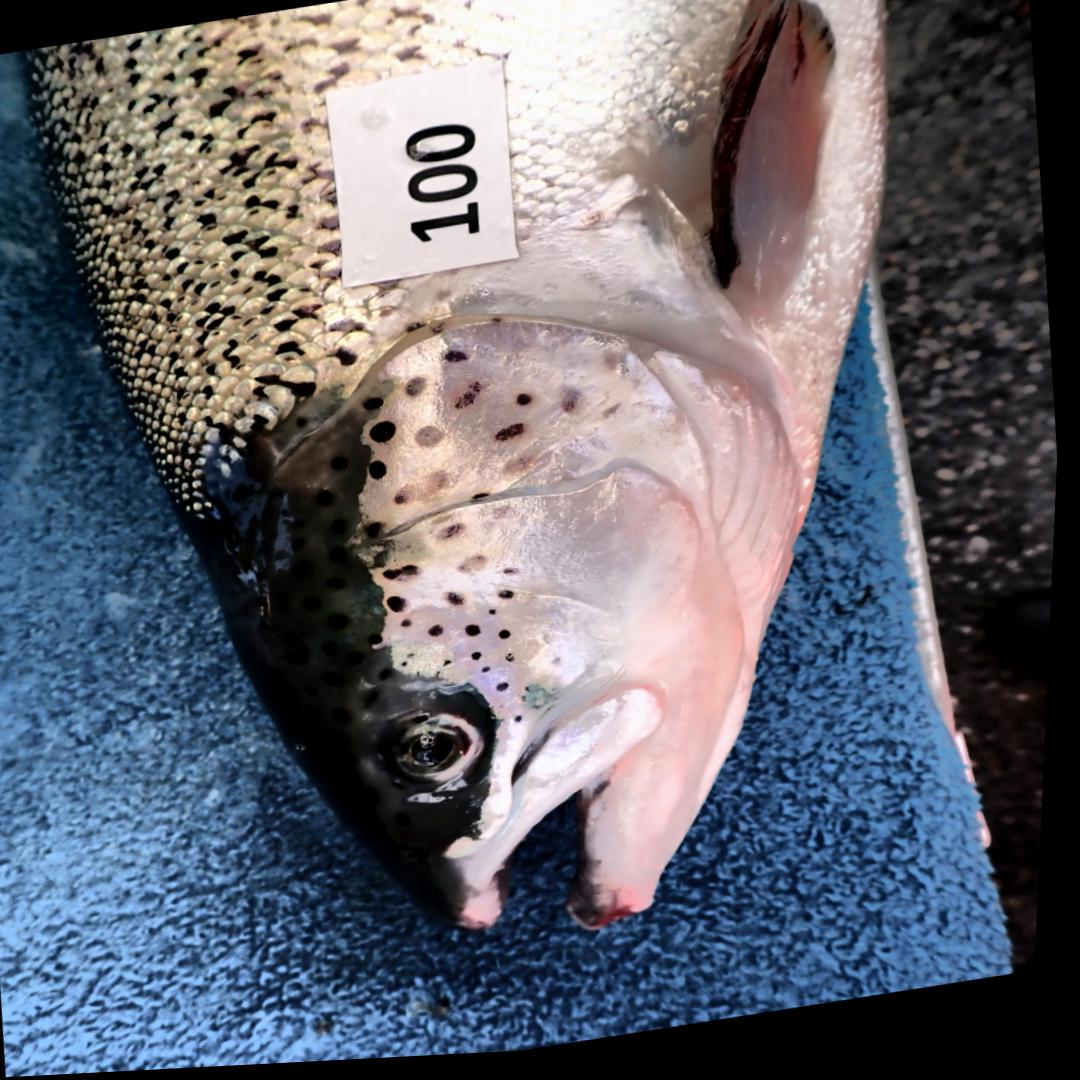spot: (399, 473, 453, 515), (458, 384, 492, 414), (506, 461, 537, 483), (418, 430, 447, 452), (375, 424, 401, 447), (388, 569, 425, 585), (498, 428, 529, 446), (464, 559, 493, 577), (564, 393, 584, 419), (439, 528, 470, 544), (444, 353, 472, 368), (372, 463, 392, 483), (409, 381, 429, 400), (392, 599, 413, 616), (504, 570, 527, 585), (367, 400, 387, 414), (452, 596, 470, 611), (497, 510, 515, 525), (373, 525, 387, 541), (471, 628, 486, 641), (477, 497, 496, 507), (521, 398, 535, 411), (434, 629, 449, 640), (503, 595, 520, 604), (503, 634, 518, 644), (402, 663, 414, 674), (376, 638, 388, 649), (504, 686, 516, 696), (476, 657, 488, 666), (448, 663, 460, 670), (511, 658, 519, 667), (489, 668, 497, 677), (408, 623, 417, 631), (493, 614, 502, 621), (521, 721, 529, 728)
